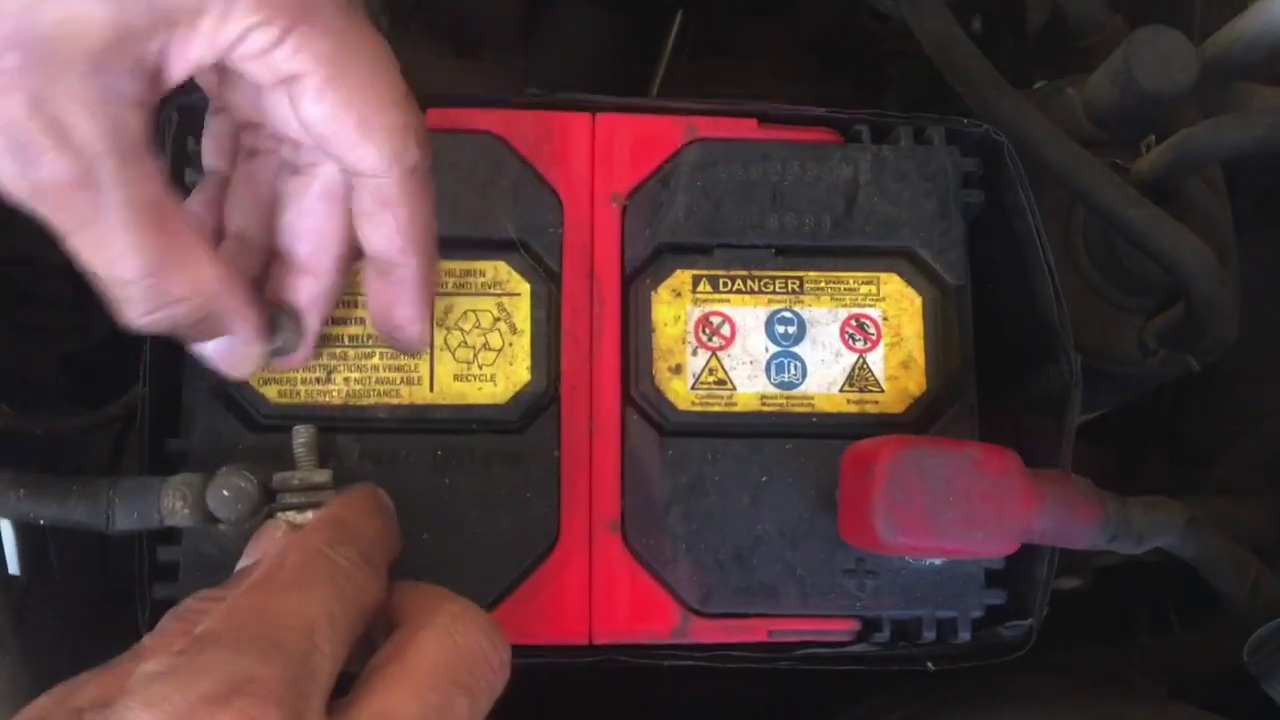battery: (184, 93, 1026, 652)
neg_connected: (150, 414, 355, 561)
neg_touched: (154, 398, 468, 663)
pos_connected: (813, 400, 1129, 585)
